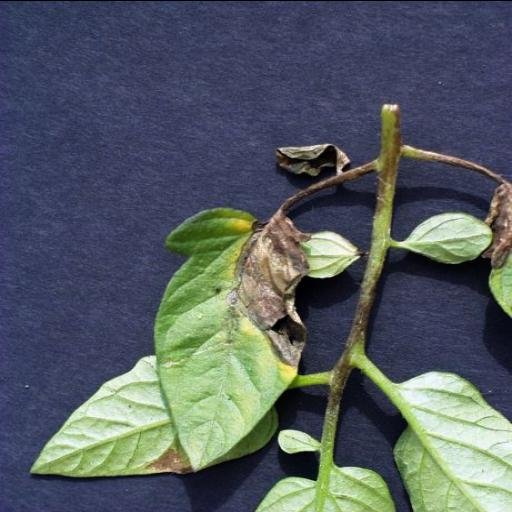Late Blight: (152, 196, 358, 474)
